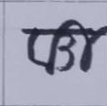i_matra: (68, 19, 93, 71)
